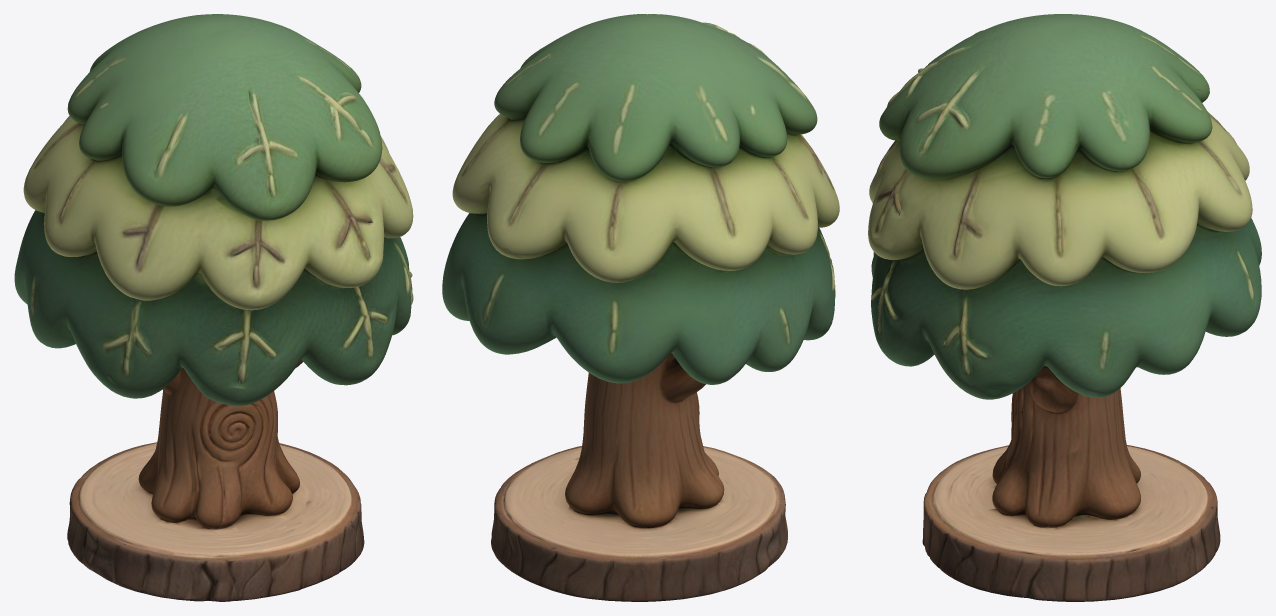
File: tree.glb
The picture shows the model from 3 angles, left to right: view 1: azimuth 30°, elevation 25°; view 2: azimuth 150°, elevation 25°; view 3: azimuth 270°, elevation 25°; orthographic projection.
Visible parts, largest first — view 1: node_0; view 2: node_0; view 3: node_0.
Part boxes in pixels (x1,y1,x2,y2): node_0: (14, 14, 413, 601); node_0: (442, 14, 839, 601); node_0: (868, 14, 1261, 601).
Size of the model in its own units: 0.73 by 1.06 by 0.74.
1 material, 1 textured.
